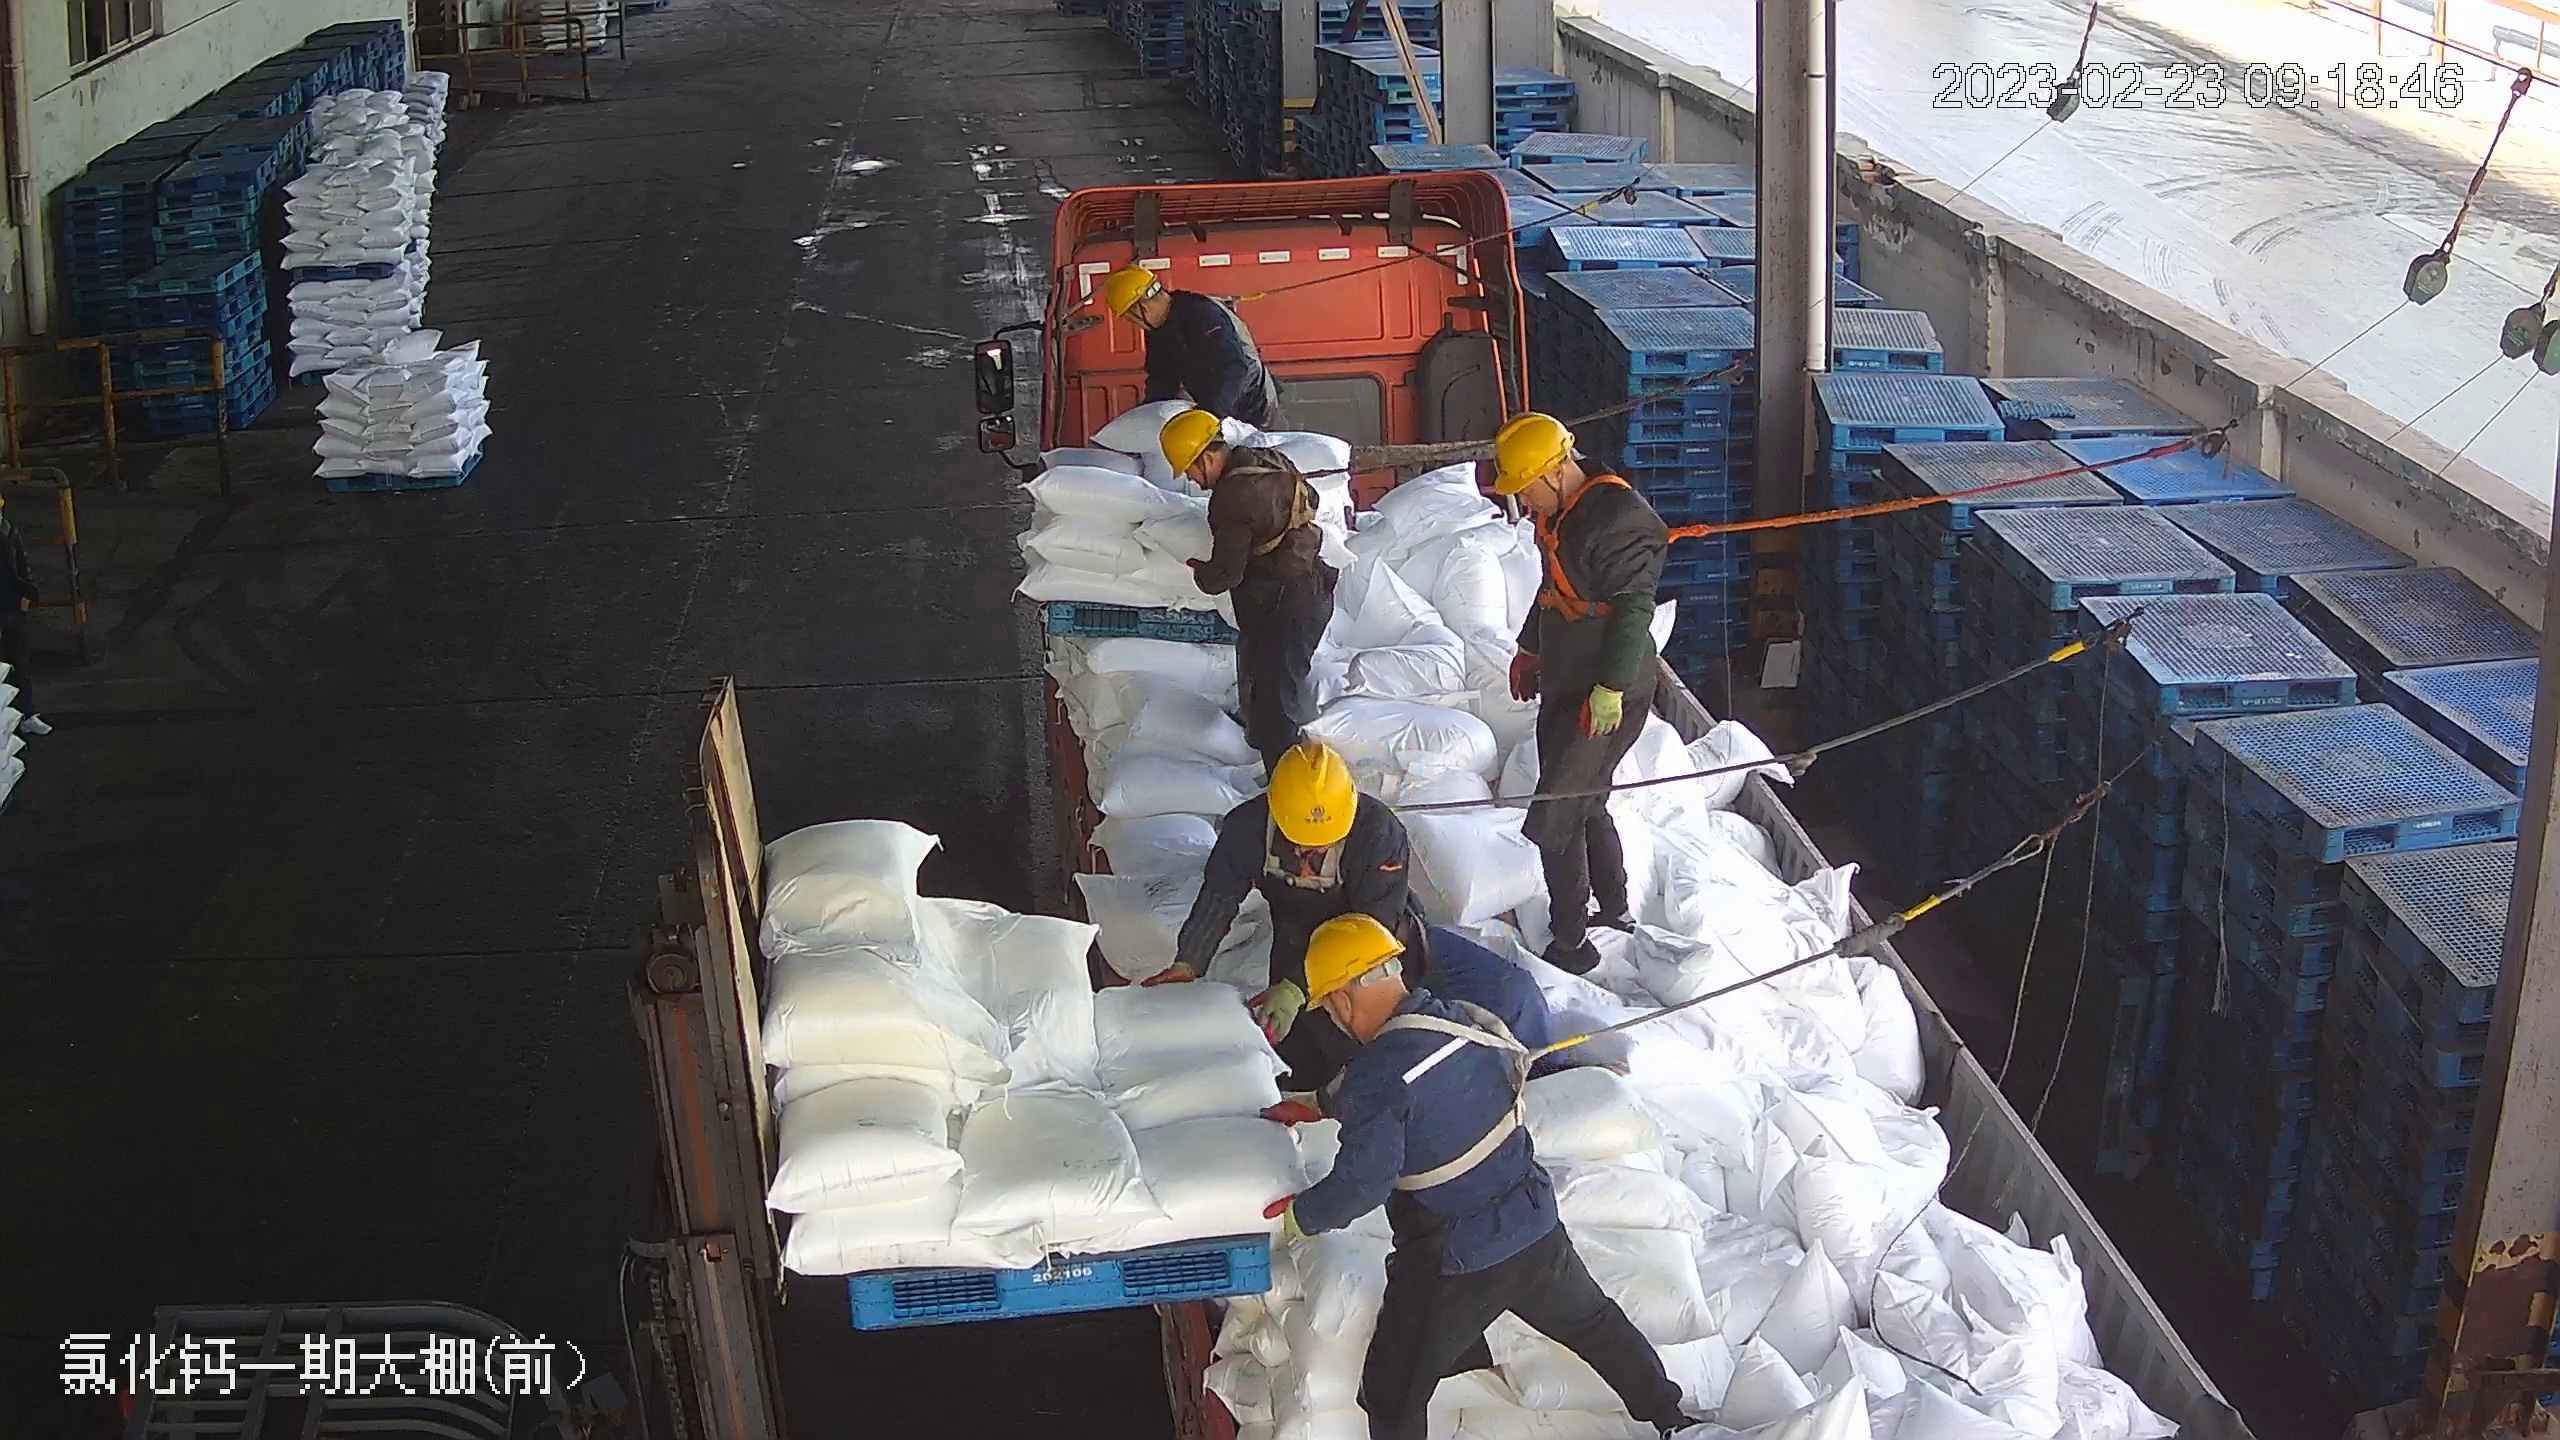belt: (1366, 993, 1607, 1191), (1518, 478, 1702, 613), (1271, 776, 1437, 891), (1219, 443, 1343, 554), (1186, 284, 1273, 331)
head: (1307, 918, 1496, 1111), (1224, 740, 1418, 891), (1487, 412, 1656, 577), (1157, 410, 1300, 528), (1100, 264, 1223, 358)
helmet: (1299, 909, 1411, 1013), (1265, 739, 1358, 844), (1491, 412, 1575, 494), (1158, 408, 1222, 479), (1096, 263, 1158, 325)
people: (1257, 909, 1687, 1436), (1139, 738, 1487, 1106), (1490, 422, 1669, 961), (1162, 413, 1333, 766), (1100, 259, 1288, 436)
truck: (976, 175, 2263, 1438)
